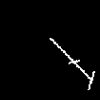double_crochet: (50, 38, 94, 89)
